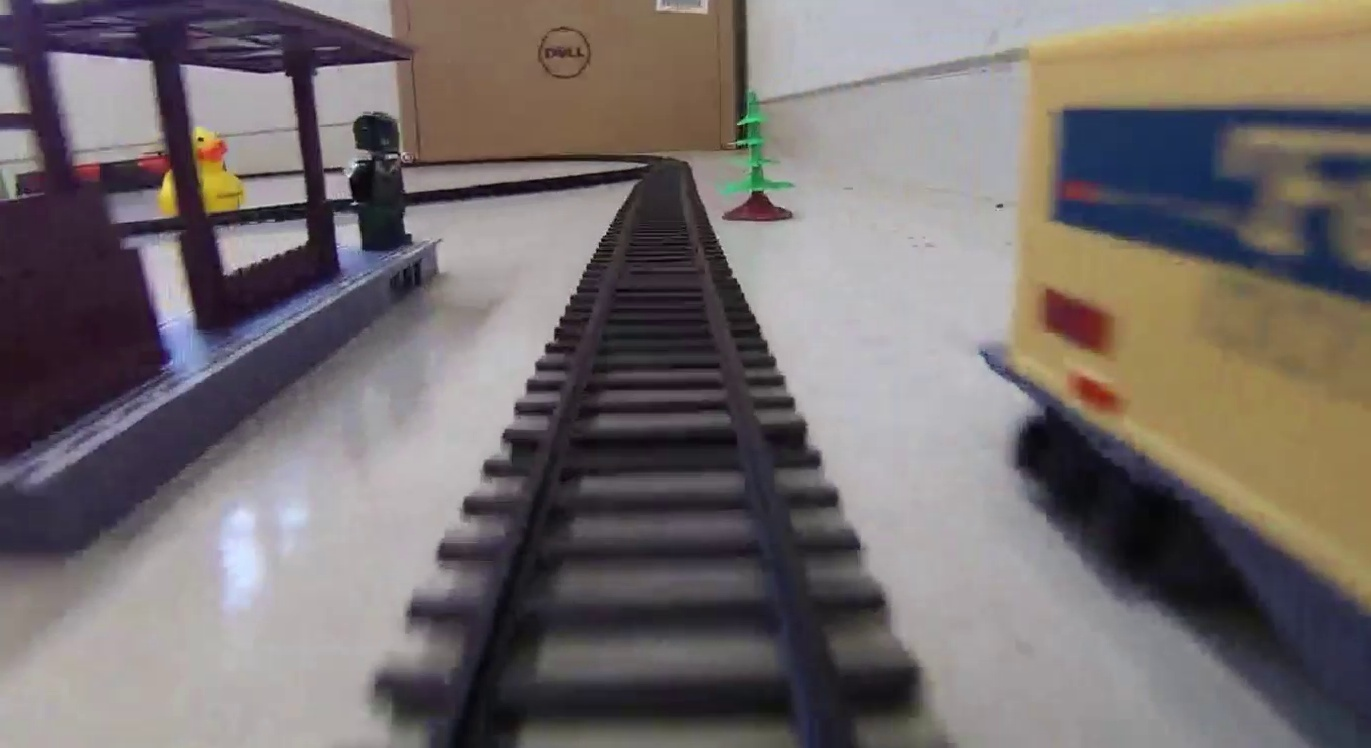people: (348, 109, 417, 252)
tree: (718, 91, 794, 221)
